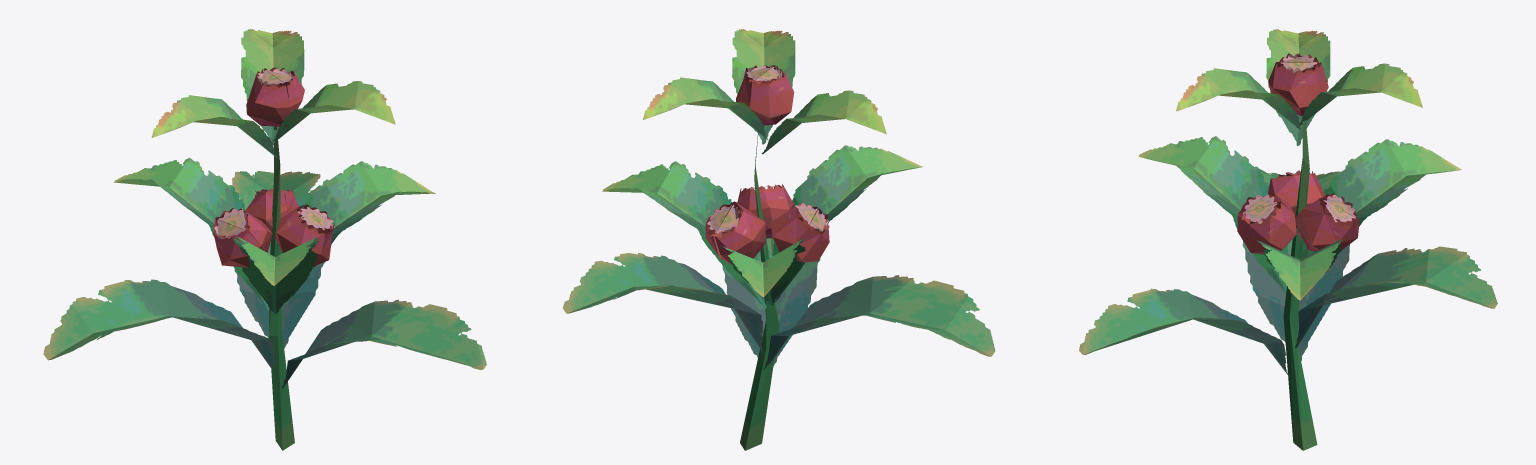
The model's file is gi-DropingBerry.glb.
3 renders of one model, left to right at view 1: azimuth 30°, elevation 25°; view 2: azimuth 150°, elevation 25°; view 3: azimuth 270°, elevation 25°, orthographic.
Parts seen in each view (by area): view 1: gi-DropingBerry; view 2: gi-DropingBerry; view 3: gi-DropingBerry.
Boxes of the visible parts, x1,y1,x2,y2 form: gi-DropingBerry: (43, 29, 486, 450); gi-DropingBerry: (562, 29, 995, 450); gi-DropingBerry: (1079, 29, 1497, 450).
Bounding box in the file's own units: 0.9062 × 0.8346 × 0.9203.
1 material, 1 textured.
